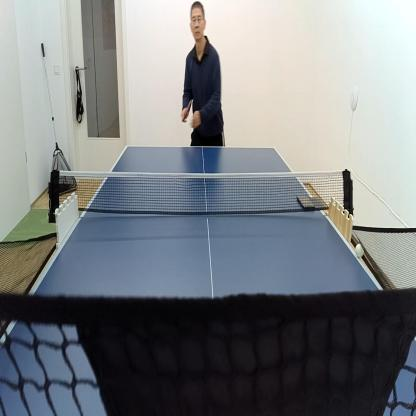Ball: (356, 244, 362, 258)
